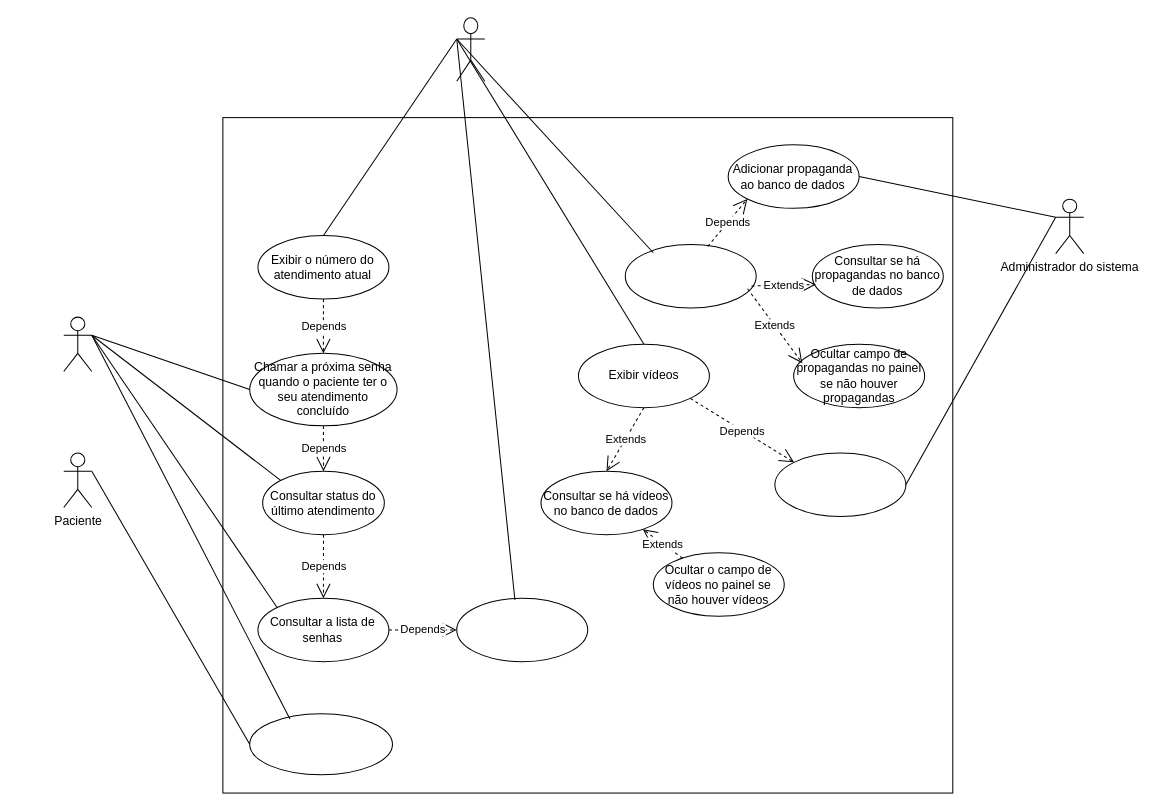
This 1157x811 diagram has some shape labels left out. Each missing label, with the centre of its shape:
"Adicionar vídeo ao banco de dados" belongs at point (840, 484).
"Consultar atendimento atual" belongs at point (320, 744).
"Exibir lista de senhas" belongs at point (522, 629).
"Exibir propagandas" belongs at point (690, 276).
"Gerenciador do painel" belongs at point (77, 343).
"Sistema" belongs at point (470, 49).
